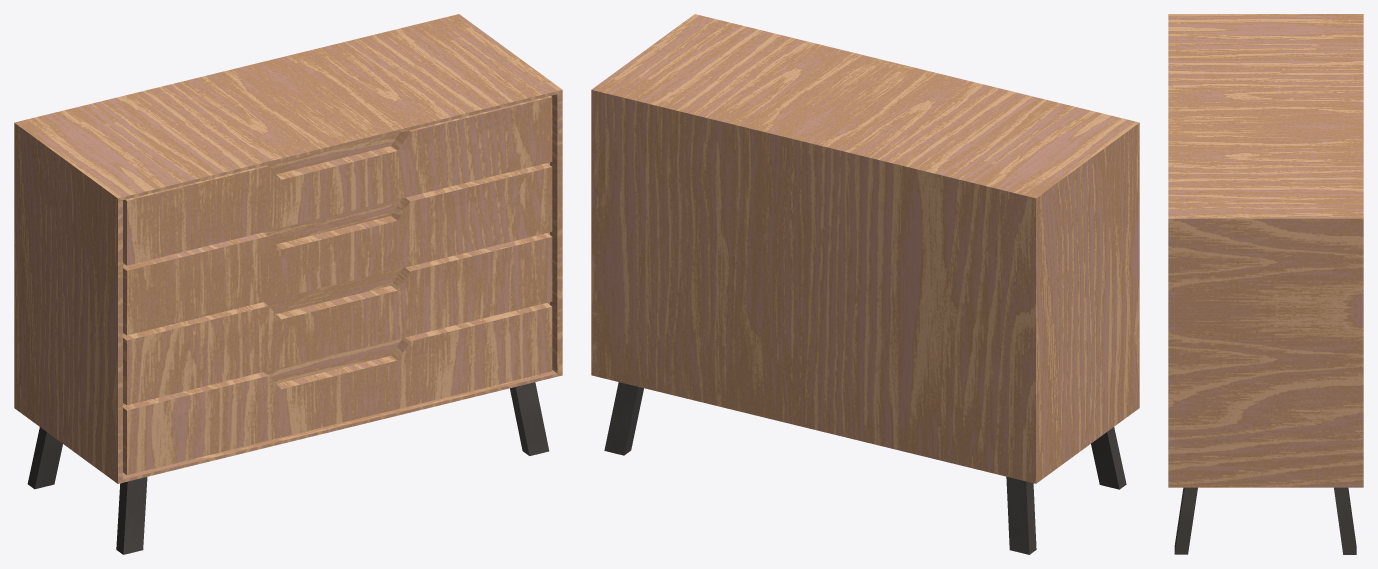
Rendered from wardrobe-dresser-mc.glb.
The picture shows the model from 3 angles, left to right: view 1: azimuth 30°, elevation 25°; view 2: azimuth 150°, elevation 25°; view 3: azimuth 270°, elevation 25°; orthographic projection. The views are drawn at different scales.
Visible parts, largest first — view 1: Dresser, Leg; view 2: Dresser, Leg; view 3: Dresser, Leg.
Part boxes in pixels (x1,y1,x2,y2): Dresser: (14,14,562,483); Leg: (27,382,549,554); Dresser: (591,14,1139,483); Leg: (604,382,1126,554); Dresser: (1168,14,1363,487); Leg: (1174,487,1356,554).
Bounding box in the file's own units: 1.01 × 0.783 × 0.4068.
Materials: 2 (2 with a texture image).
